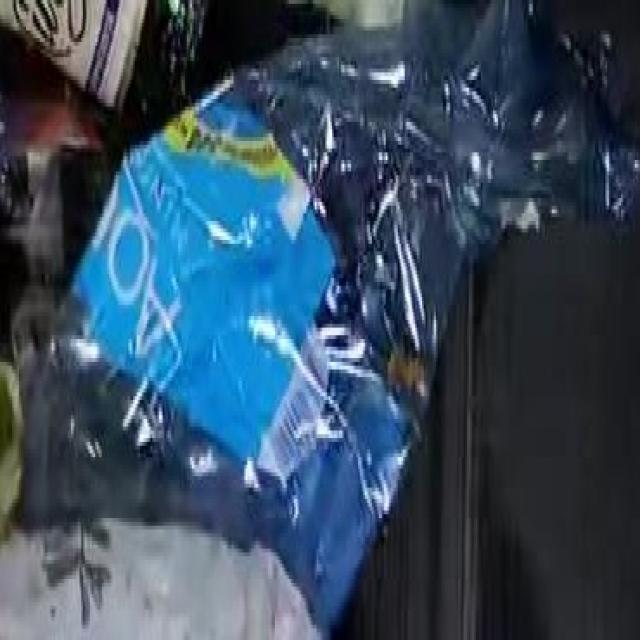litter: (2, 53, 580, 565)
